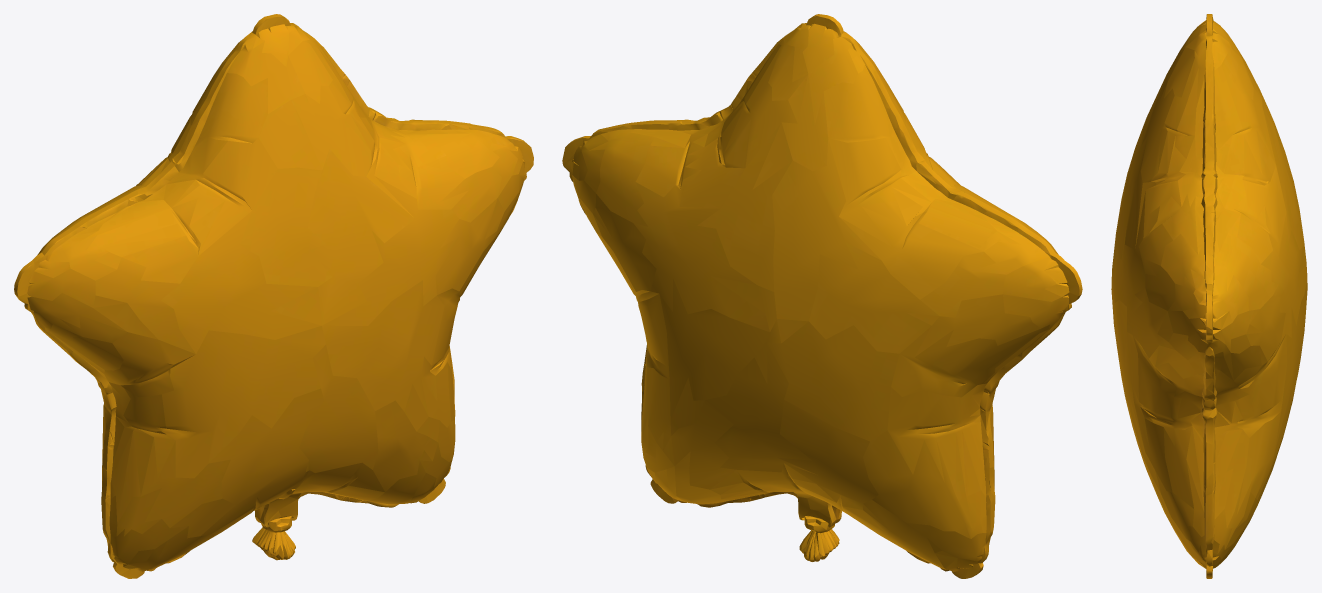
File: star-gold.glb
The picture shows the model from 3 angles, left to right: view 1: azimuth 30°, elevation 25°; view 2: azimuth 150°, elevation 25°; view 3: azimuth 270°, elevation 25°; orthographic projection. The views are drawn at different scales.
Size of the model in its own units: 0.9957 by 1 by 0.3489.
Materials: 1 (1 with a texture image).
